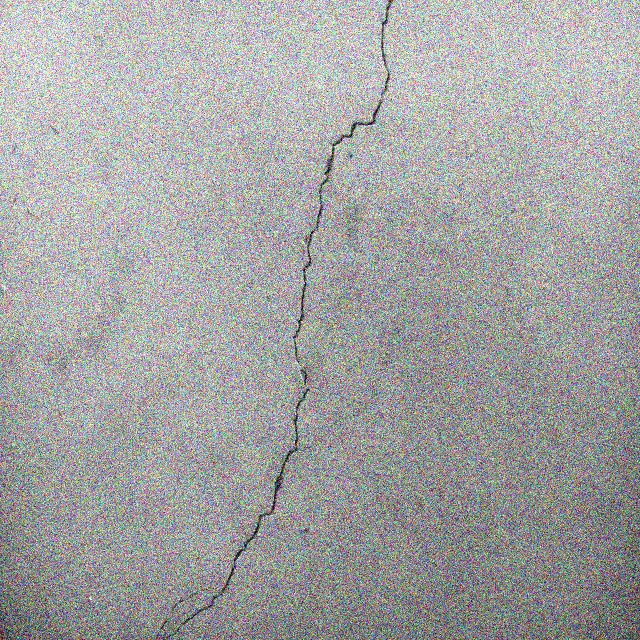SurfaceCrack: (113, 1, 423, 640)
